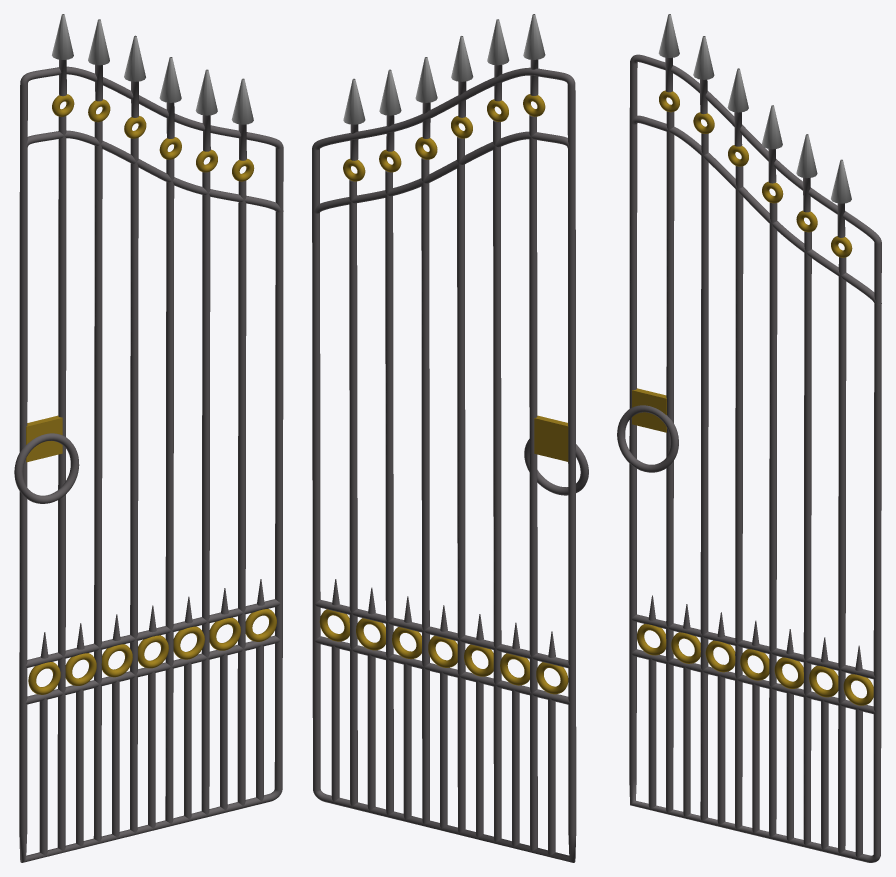
The model's file is Door_R.fbx.
3 renders of one model, left to right at view 1: azimuth 30°, elevation 25°; view 2: azimuth 150°, elevation 25°; view 3: azimuth 330°, elevation 25°, orthographic. The views are drawn at different scales.
Parts seen in each view (by area): view 1: Door_R; view 2: Door_R; view 3: Door_R.
Boxes of the visible parts, x1,y1,x2,y2 form: Door_R: (14, 14, 283, 862); Door_R: (312, 14, 588, 862); Door_R: (617, 14, 881, 862).
Size of the model in its own units: 0.7997 by 0.0671 by 2.36.
